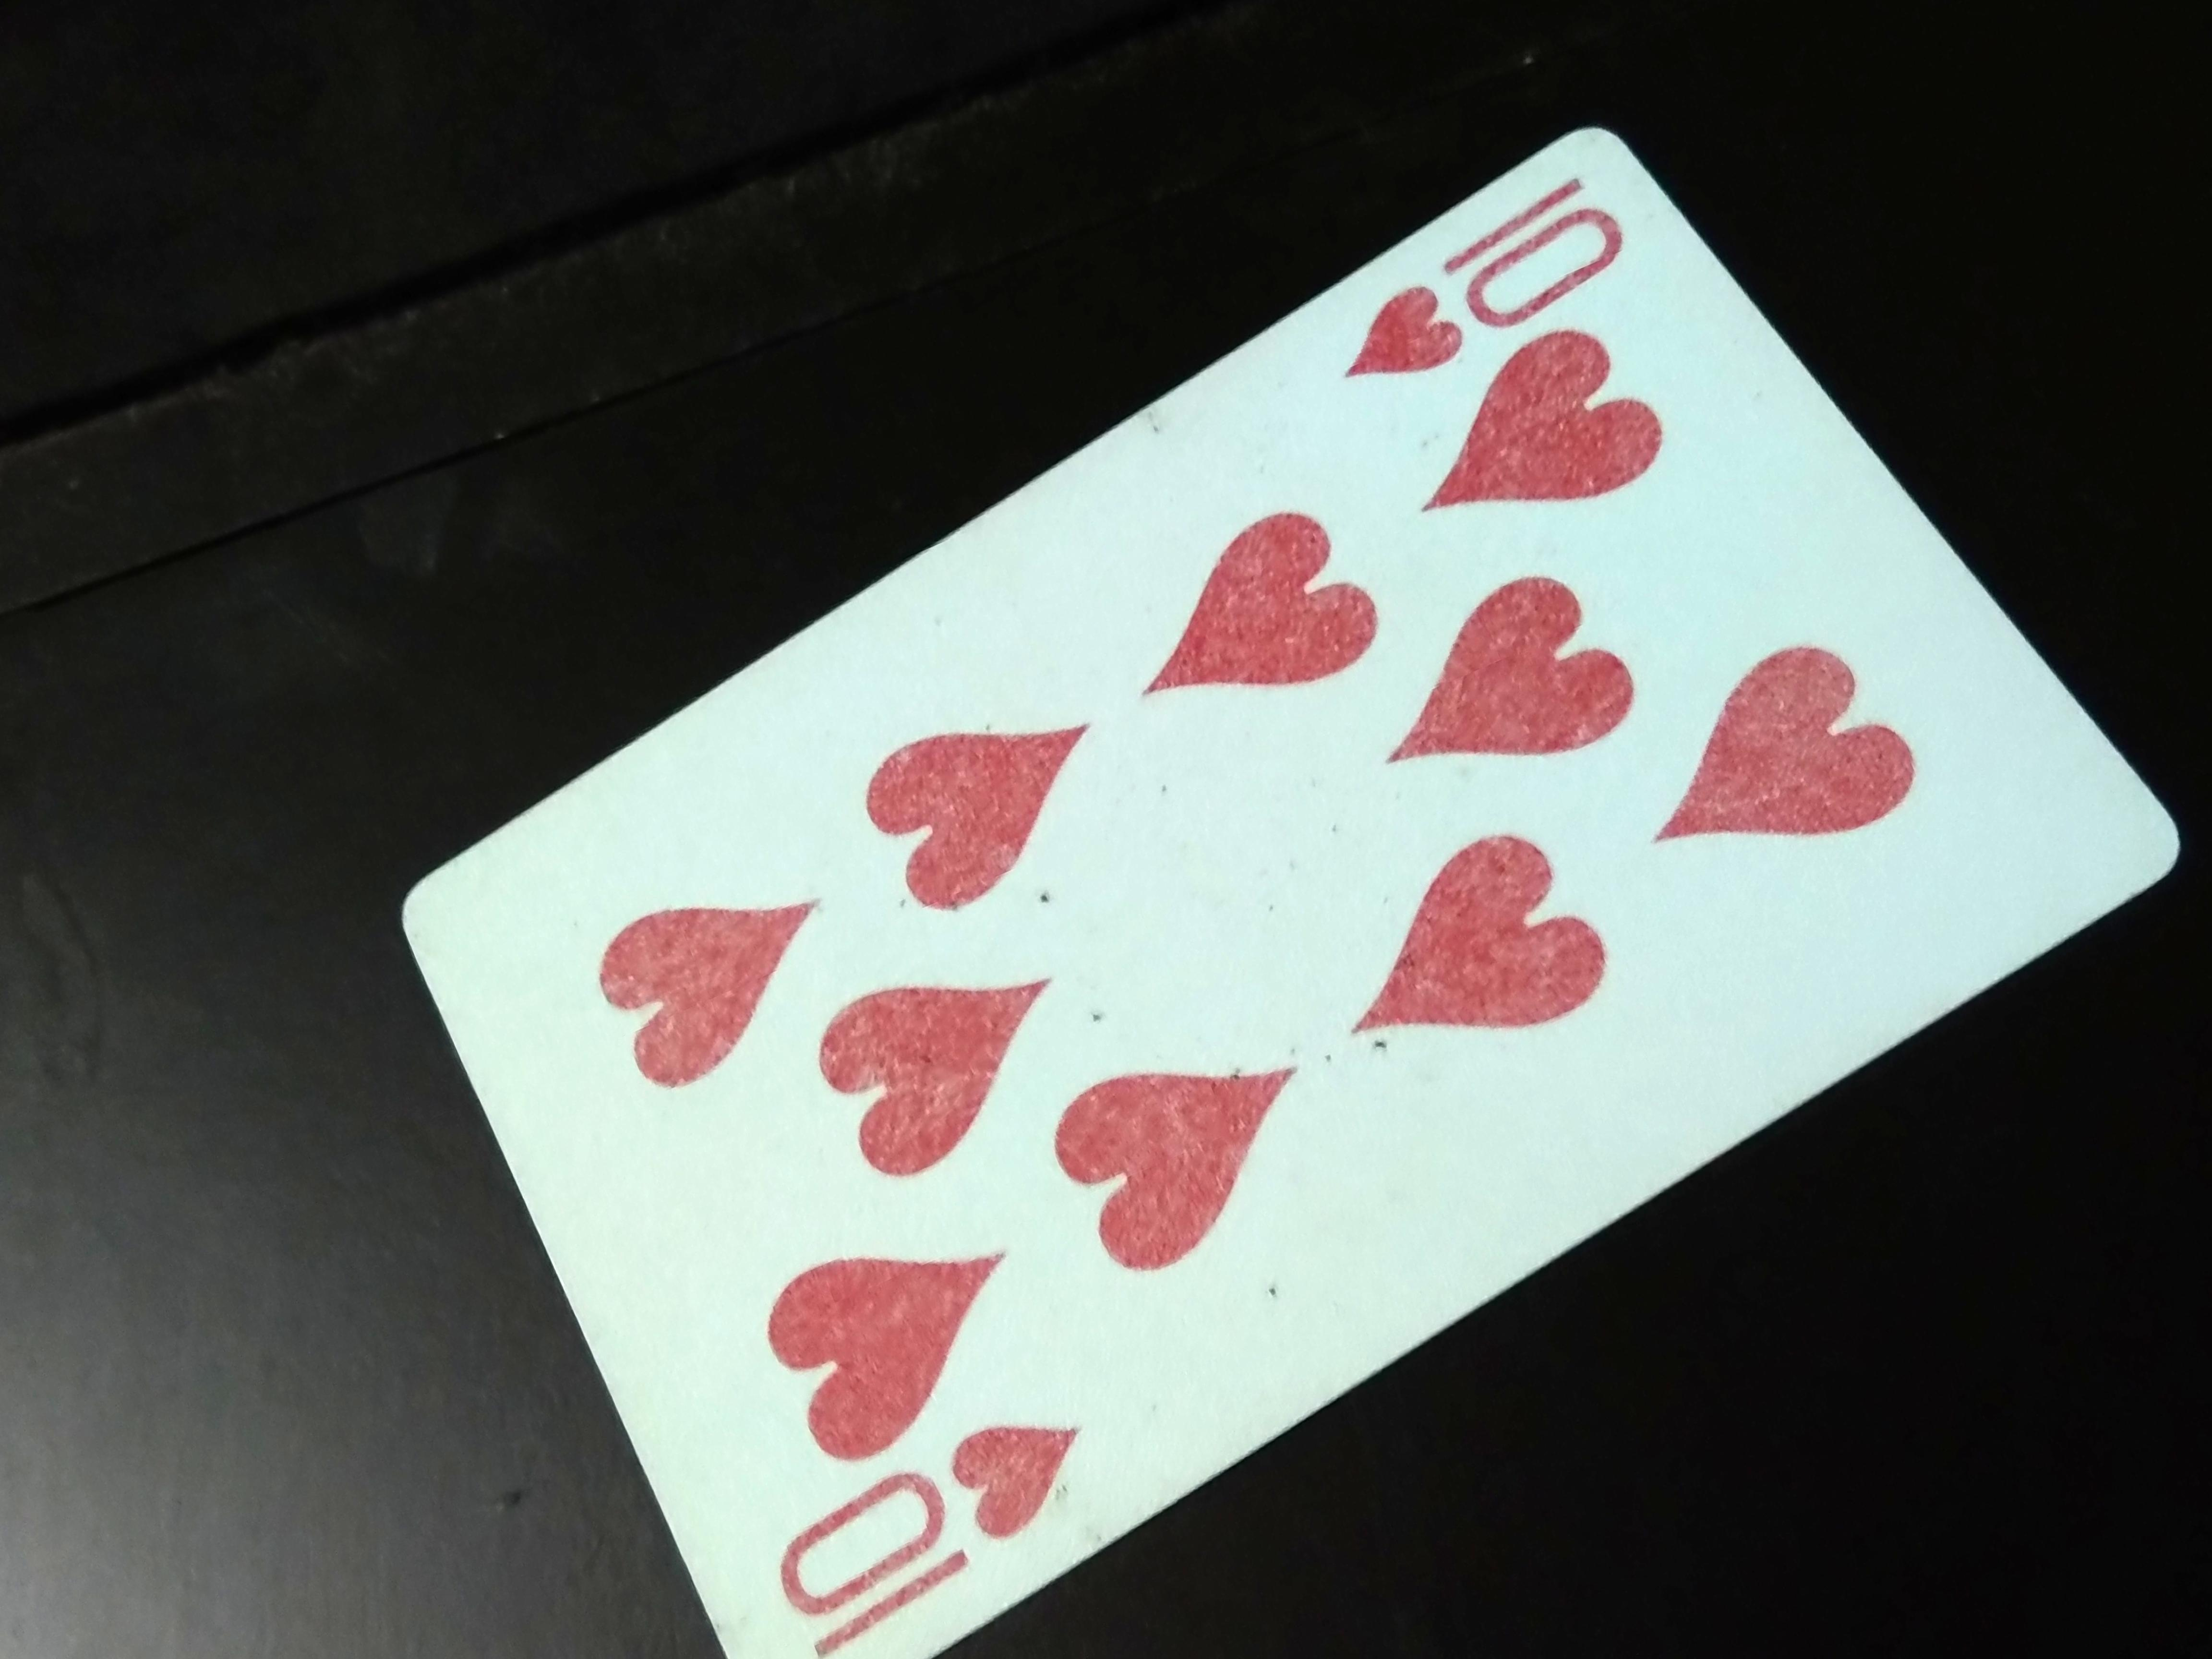10H: (792, 1427, 1103, 1650)
